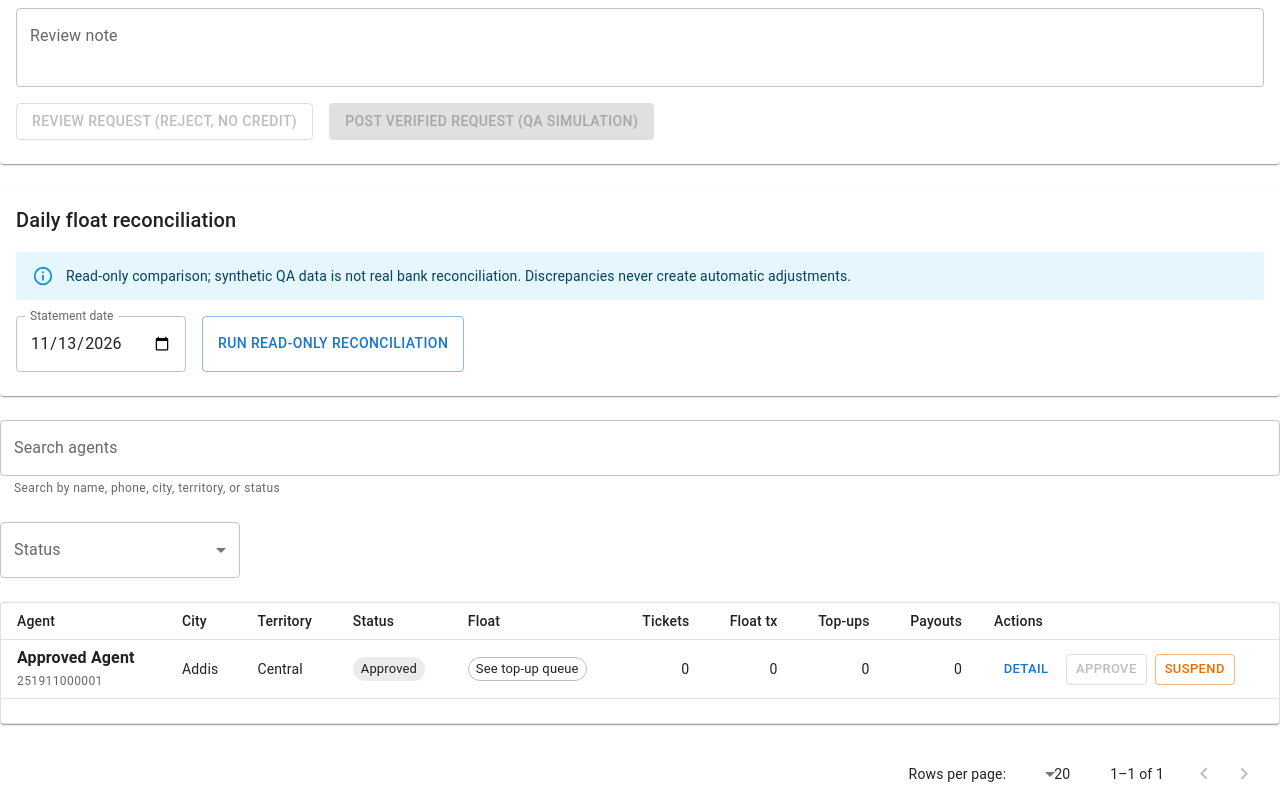
Test: AgentsPage float top-up review › keeps the suspend confirmation open with an API error for retry
This screenshot has width=1280, height=800.
(page scrolled)
What coordinates should you click on to do the following:
click the button "Suspend"
I would click on:
 (1195, 670)
Its box is [1155, 654, 1235, 685].
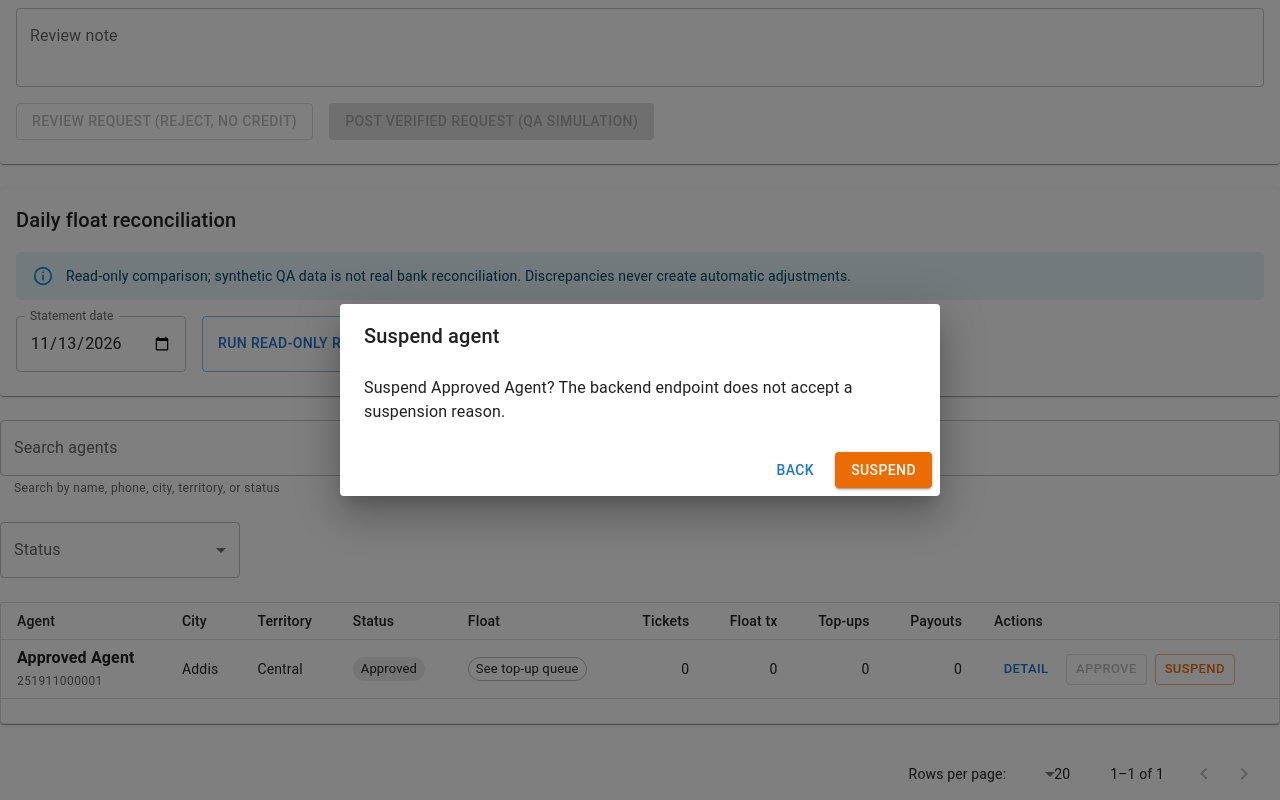
What coordinates should you click on to do the following:
click the button "Suspend"
I would click on:
 (884, 470)
Its box is [835, 452, 932, 488].
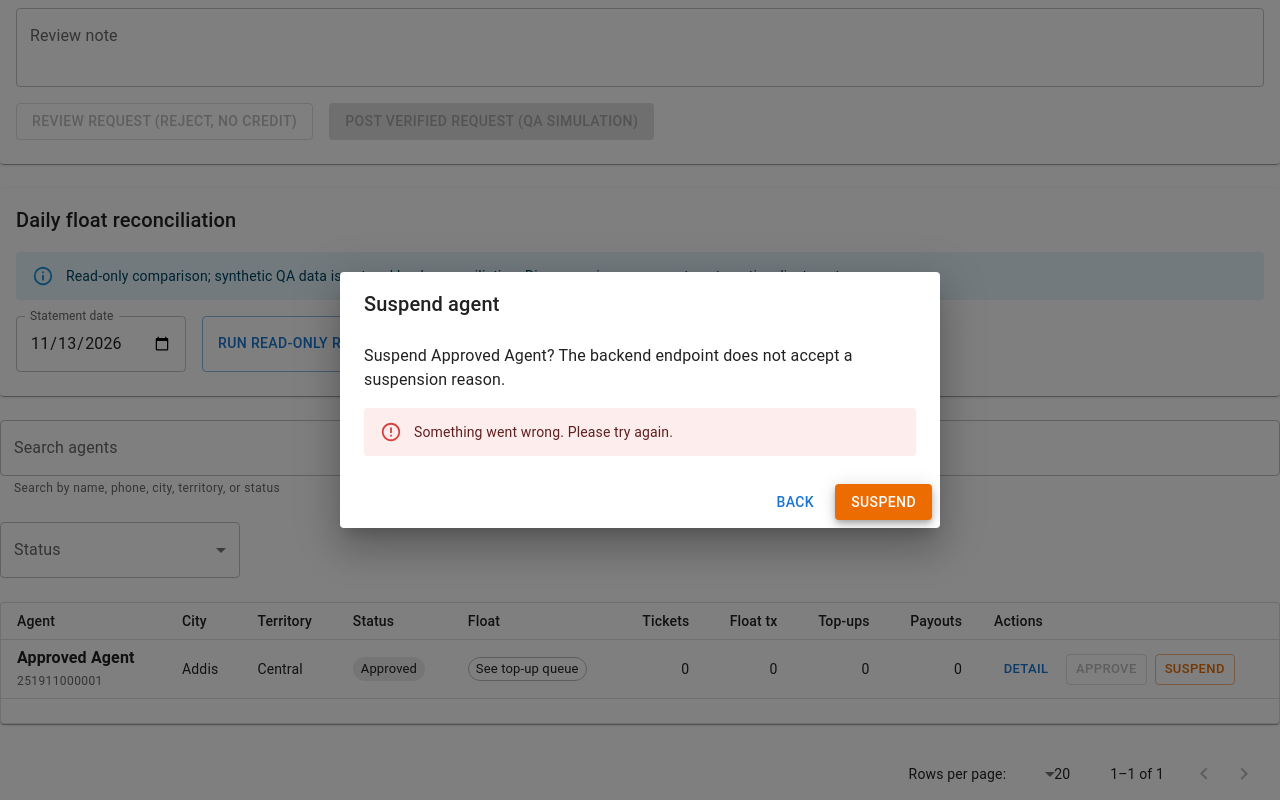
Result: the text "Approved Agent" is shown at [364, 346, 853, 389]
Result: the message reads "Something went wrong. Please try again." at [414, 424, 673, 440]
